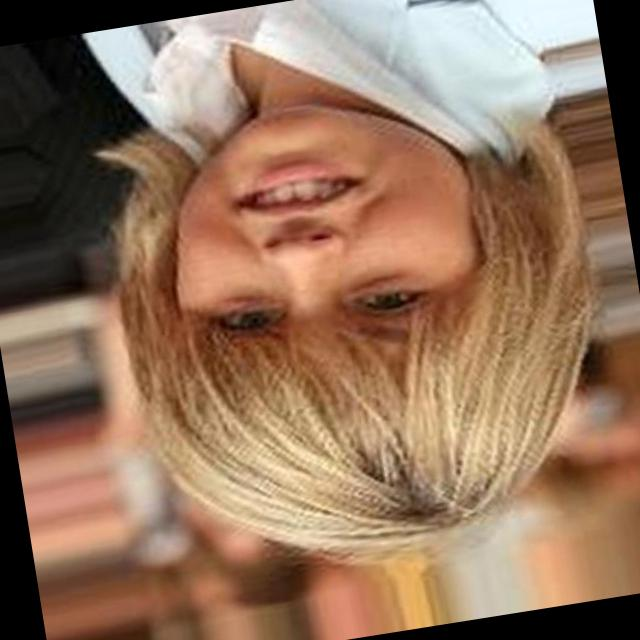bareface: (134, 91, 615, 555)
